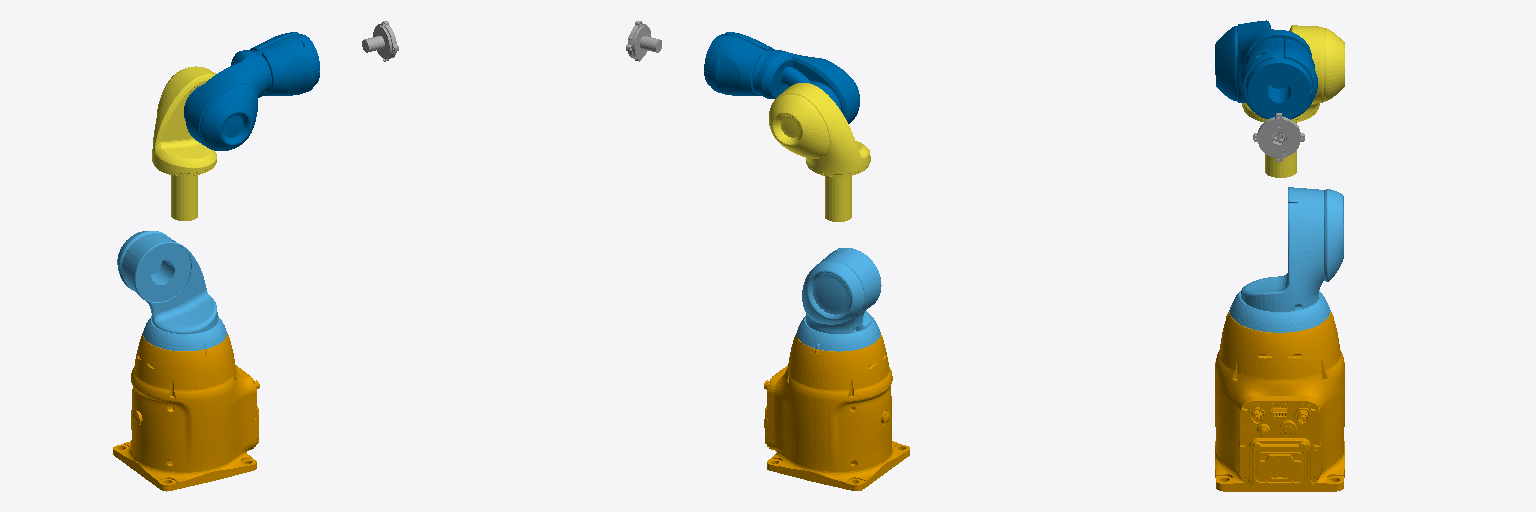
The robot description file, URDF, robot "IRB14050_SAYuMi":
<?xml version="1.0" ?>
<robot name="IRB14050_SAYuMi">

<link name="base_link">
  <inertial>
    <origin xyz="0.0067341529602538705 -4.242075529018596e-06 0.09331995585045105" rpy="0 0 0"/>
    <mass value="32.22380951244625"/>
    <inertia ixx="0.151725" iyy="0.164755" izz="0.108527" ixy="2.1e-05" iyz="-4e-06" ixz="0.00565"/>
  </inertial>
  <visual>
    <origin xyz="0 0 0" rpy="0 0 0"/>
    <geometry>
      <mesh filename="meshes/base_link.stl" scale="0.001 0.001 0.001"/>
    </geometry>
  </visual>
  <collision>
    <origin xyz="0 0 0" rpy="0 0 0"/>
    <geometry>
      <mesh filename="meshes/base_link.stl" scale="0.001 0.001 0.001"/>
    </geometry>
  </collision>
</link>

<link name="Link1_R_1">
  <inertial>
    <origin xyz="-0.010302908951592258 0.02260577276044838 0.08311471108287838" rpy="0 0 0"/>
    <mass value="7.562885567589252"/>
    <inertia ixx="0.024135" iyy="0.023842" izz="0.013038" ixy="0.001983" iyz="-0.00674" ixz="0.004166"/>
  </inertial>
  <visual>
    <origin xyz="-0.0 0.0 -0.173832" rpy="0 0 0"/>
    <geometry>
      <mesh filename="meshes/Link1_R_1.stl" scale="0.001 0.001 0.001"/>
    </geometry>
  </visual>
  <collision>
    <origin xyz="-0.0 0.0 -0.173832" rpy="0 0 0"/>
    <geometry>
      <mesh filename="meshes/Link1_R_1.stl" scale="0.001 0.001 0.001"/>
    </geometry>
  </collision>
</link>

<link name="Link2_R_1">
  <inertial>
    <origin xyz="0.0178623453666928 -0.025608675859911195 0.06427941959136324" rpy="0 0 0"/>
    <mass value="11.070792495652707"/>
    <inertia ixx="0.055419" iyy="0.054878" izz="0.017919" ixy="-0.001753" iyz="-0.009074" ixz="-0.008688"/>
  </inertial>
  <visual>
    <origin xyz="0.03 -0.012 -0.305832" rpy="0 0 0"/>
    <geometry>
      <mesh filename="meshes/Link2_R_1.stl" scale="0.001 0.001 0.001"/>
    </geometry>
  </visual>
  <collision>
    <origin xyz="0.03 -0.012 -0.305832" rpy="0 0 0"/>
    <geometry>
      <mesh filename="meshes/Link2_R_1.stl" scale="0.001 0.001 0.001"/>
    </geometry>
  </collision>
</link>

<link name="Link3_R_1">
  <inertial>
    <origin xyz="0.01920843697040592 0.025172796851887516 0.04362520410506415" rpy="0 0 0"/>
    <mass value="6.048580949750527"/>
    <inertia ixx="0.017488" iyy="0.019009" izz="0.009359" ixy="-0.001939" iyz="-0.004407" ixz="-0.004228"/>
  </inertial>
  <visual>
    <origin xyz="-0.0 -0.001 -0.478662" rpy="0 0 0"/>
    <geometry>
      <mesh filename="meshes/Link3_R_1.stl" scale="0.001 0.001 0.001"/>
    </geometry>
  </visual>
  <collision>
    <origin xyz="-0.0 -0.001 -0.478662" rpy="0 0 0"/>
    <geometry>
      <mesh filename="meshes/Link3_R_1.stl" scale="0.001 0.001 0.001"/>
    </geometry>
  </collision>
</link>

<link name="Link4_R_1">
  <inertial>
    <origin xyz="0.05593149139157671 -0.02868366102631033 0.02261704759774419" rpy="0 0 0"/>
    <mass value="9.26921022899374"/>
    <inertia ixx="0.014525" iyy="0.041104" izz="0.04023" ixy="-0.007292" iyz="-0.002279" ixz="-0.009077"/>
  </inertial>
  <visual>
    <origin xyz="-0.0405 -0.012 -0.557758" rpy="0 0 0"/>
    <geometry>
      <mesh filename="meshes/Link4_R_1.stl" scale="0.001 0.001 0.001"/>
    </geometry>
  </visual>
  <collision>
    <origin xyz="-0.0405 -0.012 -0.557758" rpy="0 0 0"/>
    <geometry>
      <mesh filename="meshes/Link4_R_1.stl" scale="0.001 0.001 0.001"/>
    </geometry>
  </collision>
</link>

<link name="Link5_R_1">
  <inertial>
    <origin xyz="0.04580787520295618 0.027826320424547954 -0.007443616251315288" rpy="0 0 0"/>
    <mass value="2.6959499165850227"/>
    <inertia ixx="0.002867" iyy="0.005667" izz="0.00619" ixy="-0.001992" iyz="0.000395" ixz="0.001038"/>
  </inertial>
  <visual>
    <origin xyz="-0.205149 0.001 -0.598091" rpy="0 0 0"/>
    <geometry>
      <mesh filename="meshes/Link5_R_1.stl" scale="0.001 0.001 0.001"/>
    </geometry>
  </visual>
  <collision>
    <origin xyz="-0.205149 0.001 -0.598091" rpy="0 0 0"/>
    <geometry>
      <mesh filename="meshes/Link5_R_1.stl" scale="0.001 0.001 0.001"/>
    </geometry>
  </collision>
</link>

<link name="Link6_R_1">
  <inertial>
    <origin xyz="-0.01243115833760261 -0.03641924839255436 0.011234978096234638" rpy="0 0 0"/>
    <mass value="3.6915533716806794"/>
    <inertia ixx="0.003891" iyy="0.004078" izz="0.003737" ixy="0.000141" iyz="-0.000212" ixz="6.5e-05"/>
  </inertial>
  <visual>
    <origin xyz="-0.305514 -0.026012 -0.571002" rpy="0 0 0"/>
    <geometry>
      <mesh filename="meshes/Link6_R_1.stl" scale="0.001 0.001 0.001"/>
    </geometry>
  </visual>
  <collision>
    <origin xyz="-0.305514 -0.026012 -0.571002" rpy="0 0 0"/>
    <geometry>
      <mesh filename="meshes/Link6_R_1.stl" scale="0.001 0.001 0.001"/>
    </geometry>
  </collision>
</link>

<link name="Link7_R_1">
  <inertial>
    <origin xyz="0.0003534835414897852 1.06031163510992e-05 3.828102717007287e-05" rpy="0 0 0"/>
    <mass value="0.240688664570473"/>
    <inertia ixx="6.8e-05" iyy="5.7e-05" izz="5.7e-05" ixy="-0.0" iyz="-0.0" ixz="-0.0"/>
  </inertial>
  <visual>
    <origin xyz="-0.33035 0.001 -0.598141" rpy="0 0 0"/>
    <geometry>
      <mesh filename="meshes/Link7_R_1.stl" scale="0.001 0.001 0.001"/>
    </geometry>
  </visual>
  <collision>
    <origin xyz="-0.33035 0.001 -0.598141" rpy="0 0 0"/>
    <geometry>
      <mesh filename="meshes/Link7_R_1.stl" scale="0.001 0.001 0.001"/>
    </geometry>
  </collision>
</link>

<joint name="j1" type="continuous">
  <origin xyz="0.0 0.0 0.173832" rpy="0 0 0"/>
  <parent link="base_link"/>
  <child link="Link1_R_1"/>
  <axis xyz="0.0 0.0 -1.0"/>
</joint>

<joint name="j2" type="continuous">
  <origin xyz="-0.03 0.012 0.132" rpy="0 0 0"/>
  <parent link="Link1_R_1"/>
  <child link="Link2_R_1"/>
  <axis xyz="0.0 1.0 0.0"/>
</joint>

<joint name="j3" type="continuous">
  <origin xyz="0.03 -0.011 0.17283" rpy="0 0 0"/>
  <parent link="Link2_R_1"/>
  <child link="Link3_R_1"/>
  <axis xyz="-0.0 -0.0 1.0"/>
</joint>

<joint name="j4" type="continuous">
  <origin xyz="0.0405 0.011 0.079096" rpy="0 0 0"/>
  <parent link="Link3_R_1"/>
  <child link="Link4_R_1"/>
  <axis xyz="-0.0 -1.0 -0.0"/>
</joint>

<joint name="j5" type="continuous">
  <origin xyz="0.164649 -0.013 0.040333" rpy="0 0 0"/>
  <parent link="Link4_R_1"/>
  <child link="Link5_R_1"/>
  <axis xyz="-0.999999 0.0 0.00101"/>
</joint>

<joint name="j6" type="continuous">
  <origin xyz="0.100365 0.027012 -0.027089" rpy="0 0 0"/>
  <parent link="Link5_R_1"/>
  <child link="Link6_R_1"/>
  <axis xyz="0.0 1.0 0.000441"/>
</joint>

<joint name="j7" type="continuous">
  <origin xyz="0.024836 -0.027012 0.027139" rpy="0 0 0"/>
  <parent link="Link6_R_1"/>
  <child link="Link7_R_1"/>
  <axis xyz="-0.999982 3e-06 -0.00607"/>
</joint>

<transmission name="j1_tran">
  <type>transmission_interface/SimpleTransmission</type>
  <joint name="j1">
    <hardwareInterface>hardware_interface/EffortJointInterface</hardwareInterface>
  </joint>
  <actuator name="j1_actr">
    <hardwareInterface>hardware_interface/EffortJointInterface</hardwareInterface>
    <mechanicalReduction>1</mechanicalReduction>
  </actuator>
</transmission>

<transmission name="j2_tran">
  <type>transmission_interface/SimpleTransmission</type>
  <joint name="j2">
    <hardwareInterface>hardware_interface/EffortJointInterface</hardwareInterface>
  </joint>
  <actuator name="j2_actr">
    <hardwareInterface>hardware_interface/EffortJointInterface</hardwareInterface>
    <mechanicalReduction>1</mechanicalReduction>
  </actuator>
</transmission>

<transmission name="j3_tran">
  <type>transmission_interface/SimpleTransmission</type>
  <joint name="j3">
    <hardwareInterface>hardware_interface/EffortJointInterface</hardwareInterface>
  </joint>
  <actuator name="j3_actr">
    <hardwareInterface>hardware_interface/EffortJointInterface</hardwareInterface>
    <mechanicalReduction>1</mechanicalReduction>
  </actuator>
</transmission>

<transmission name="j4_tran">
  <type>transmission_interface/SimpleTransmission</type>
  <joint name="j4">
    <hardwareInterface>hardware_interface/EffortJointInterface</hardwareInterface>
  </joint>
  <actuator name="j4_actr">
    <hardwareInterface>hardware_interface/EffortJointInterface</hardwareInterface>
    <mechanicalReduction>1</mechanicalReduction>
  </actuator>
</transmission>

<transmission name="j5_tran">
  <type>transmission_interface/SimpleTransmission</type>
  <joint name="j5">
    <hardwareInterface>hardware_interface/EffortJointInterface</hardwareInterface>
  </joint>
  <actuator name="j5_actr">
    <hardwareInterface>hardware_interface/EffortJointInterface</hardwareInterface>
    <mechanicalReduction>1</mechanicalReduction>
  </actuator>
</transmission>

<transmission name="j6_tran">
  <type>transmission_interface/SimpleTransmission</type>
  <joint name="j6">
    <hardwareInterface>hardware_interface/EffortJointInterface</hardwareInterface>
  </joint>
  <actuator name="j6_actr">
    <hardwareInterface>hardware_interface/EffortJointInterface</hardwareInterface>
    <mechanicalReduction>1</mechanicalReduction>
  </actuator>
</transmission>

<transmission name="j7_tran">
  <type>transmission_interface/SimpleTransmission</type>
  <joint name="j7">
    <hardwareInterface>hardware_interface/EffortJointInterface</hardwareInterface>
  </joint>
  <actuator name="j7_actr">
    <hardwareInterface>hardware_interface/EffortJointInterface</hardwareInterface>
    <mechanicalReduction>1</mechanicalReduction>
  </actuator>
</transmission>

</robot>

--- Render facts (derived) ---
The picture shows the robot from 3 angles, left to right: view 1: azimuth 30°, elevation 25°; view 2: azimuth 150°, elevation 25°; view 3: azimuth 270°, elevation 25°; orthographic projection.
Model IRB14050_SAYuMi with 8 links and 7 joints (7 continuous), rooted at base_link, posed every joint at zero.
Links seen in each view (by area): view 1: base_link, Link4_R_1, Link1_R_1, Link3_R_1, Link7_R_1; view 2: base_link, Link3_R_1, Link4_R_1, Link1_R_1, Link7_R_1; view 3: base_link, Link1_R_1, Link4_R_1, Link3_R_1, Link7_R_1.
Link boxes in pixels (x1,y1,x2,y2): base_link: [113, 333, 259, 491]; Link4_R_1: [184, 32, 319, 150]; Link1_R_1: [117, 231, 226, 350]; Link3_R_1: [152, 66, 216, 220]; Link7_R_1: [362, 21, 398, 61]; base_link: [764, 332, 909, 490]; Link3_R_1: [769, 83, 870, 221]; Link4_R_1: [704, 32, 859, 123]; Link1_R_1: [797, 248, 881, 351]; Link7_R_1: [626, 21, 661, 61]; base_link: [1215, 312, 1344, 491]; Link1_R_1: [1229, 187, 1343, 332]; Link4_R_1: [1215, 20, 1317, 119]; Link3_R_1: [1242, 25, 1344, 177]; Link7_R_1: [1253, 113, 1304, 161].
Bounding box of the posed robot: 0.4254 × 0.1602 × 0.6429 m (x, y, z).
Meshes: 8 distinct files referenced, 5 mesh visuals loaded (5 binary STL); not drawn: 3 (reference not matched to a file when rendering).
